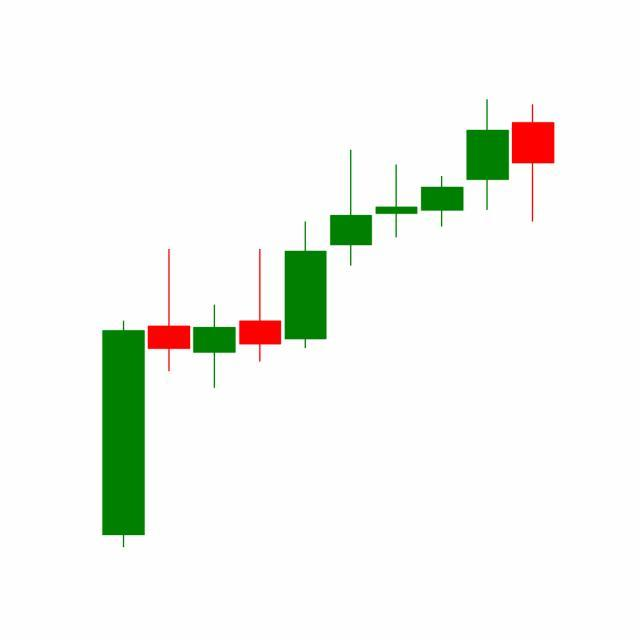Hikkake Pattern: (283, 99, 512, 353)
